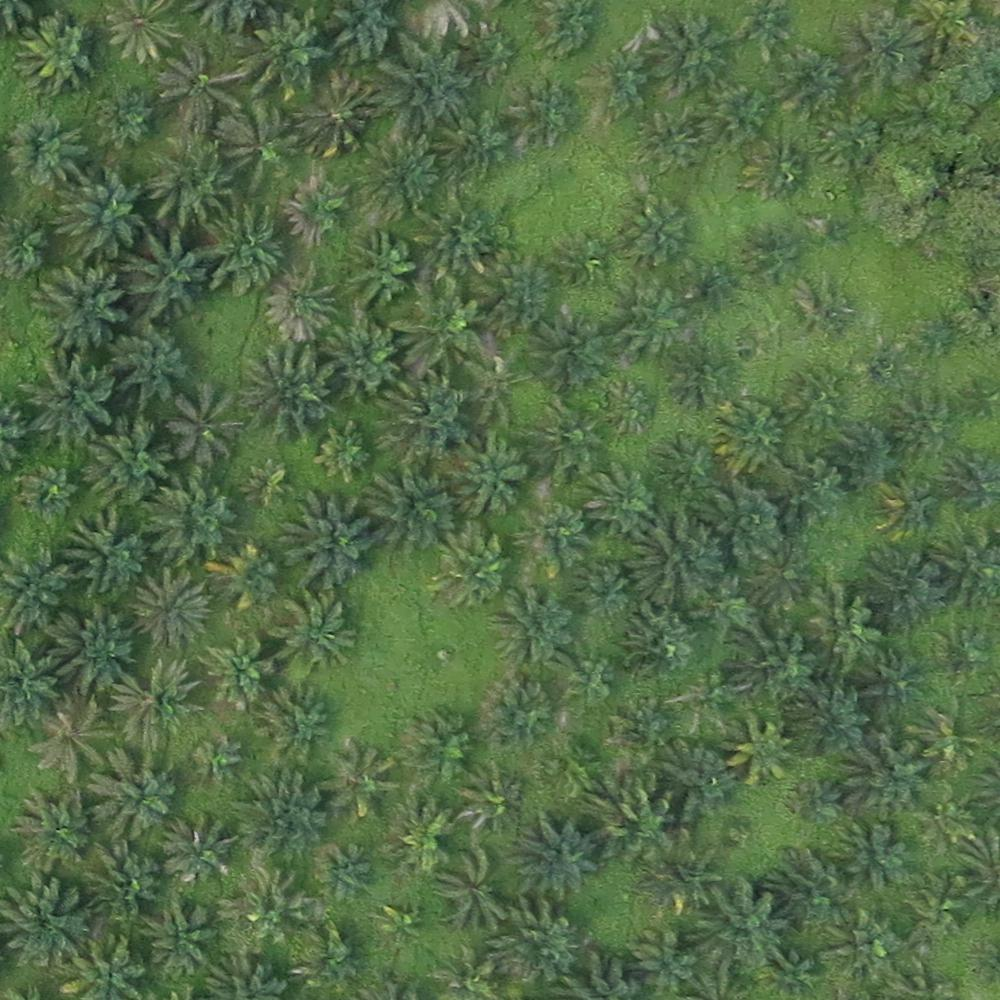Palm: (2, 872, 91, 973), (277, 492, 371, 586), (238, 344, 331, 439), (392, 284, 487, 376), (234, 774, 325, 867), (139, 475, 230, 564), (380, 39, 468, 129), (21, 357, 116, 440), (632, 521, 722, 608), (36, 259, 123, 347), (592, 764, 678, 852), (699, 879, 784, 967), (58, 173, 145, 257), (86, 419, 174, 502), (156, 46, 245, 128), (28, 693, 113, 778), (46, 609, 132, 693), (768, 844, 851, 931), (347, 136, 435, 218), (492, 901, 581, 982), (144, 139, 230, 222), (851, 731, 935, 815), (94, 752, 175, 839), (644, 10, 730, 91), (513, 818, 602, 896), (114, 665, 198, 747), (221, 868, 308, 947), (273, 596, 355, 679), (386, 382, 471, 462), (242, 10, 324, 92), (119, 234, 203, 314), (415, 205, 499, 285), (131, 566, 211, 650), (857, 551, 937, 635), (65, 510, 146, 592), (740, 621, 823, 701), (372, 466, 450, 551), (835, 12, 920, 89), (12, 791, 95, 869), (204, 206, 281, 290), (15, 13, 94, 94), (4, 113, 89, 188), (221, 101, 296, 186), (802, 585, 881, 665), (706, 480, 783, 562), (822, 908, 903, 985), (474, 669, 556, 745), (525, 401, 603, 480), (495, 583, 574, 661), (324, 317, 398, 400), (296, 77, 375, 154), (503, 72, 580, 151), (113, 327, 189, 407), (528, 318, 608, 394), (833, 815, 910, 892), (335, 234, 414, 309), (137, 896, 212, 975), (253, 686, 333, 760), (433, 847, 507, 927), (640, 843, 717, 918), (450, 439, 529, 512), (768, 46, 844, 121), (717, 712, 792, 788), (791, 680, 867, 755), (707, 401, 784, 475), (437, 526, 510, 604), (325, 747, 399, 823), (455, 764, 528, 841), (158, 818, 237, 889), (170, 380, 237, 462), (262, 272, 340, 342), (437, 109, 511, 182), (614, 288, 686, 363), (201, 633, 273, 707), (518, 502, 592, 574), (582, 471, 656, 543), (397, 715, 472, 786), (480, 254, 551, 328), (384, 795, 455, 869), (2, 547, 68, 626), (616, 195, 689, 266), (63, 939, 147, 1000), (621, 928, 702, 991), (698, 84, 771, 151), (286, 923, 363, 985), (216, 544, 283, 615), (104, 2, 184, 61), (585, 52, 652, 121), (814, 110, 883, 177), (289, 169, 352, 239), (636, 108, 703, 171), (325, 5, 396, 64), (85, 85, 150, 149), (739, 138, 806, 198)
